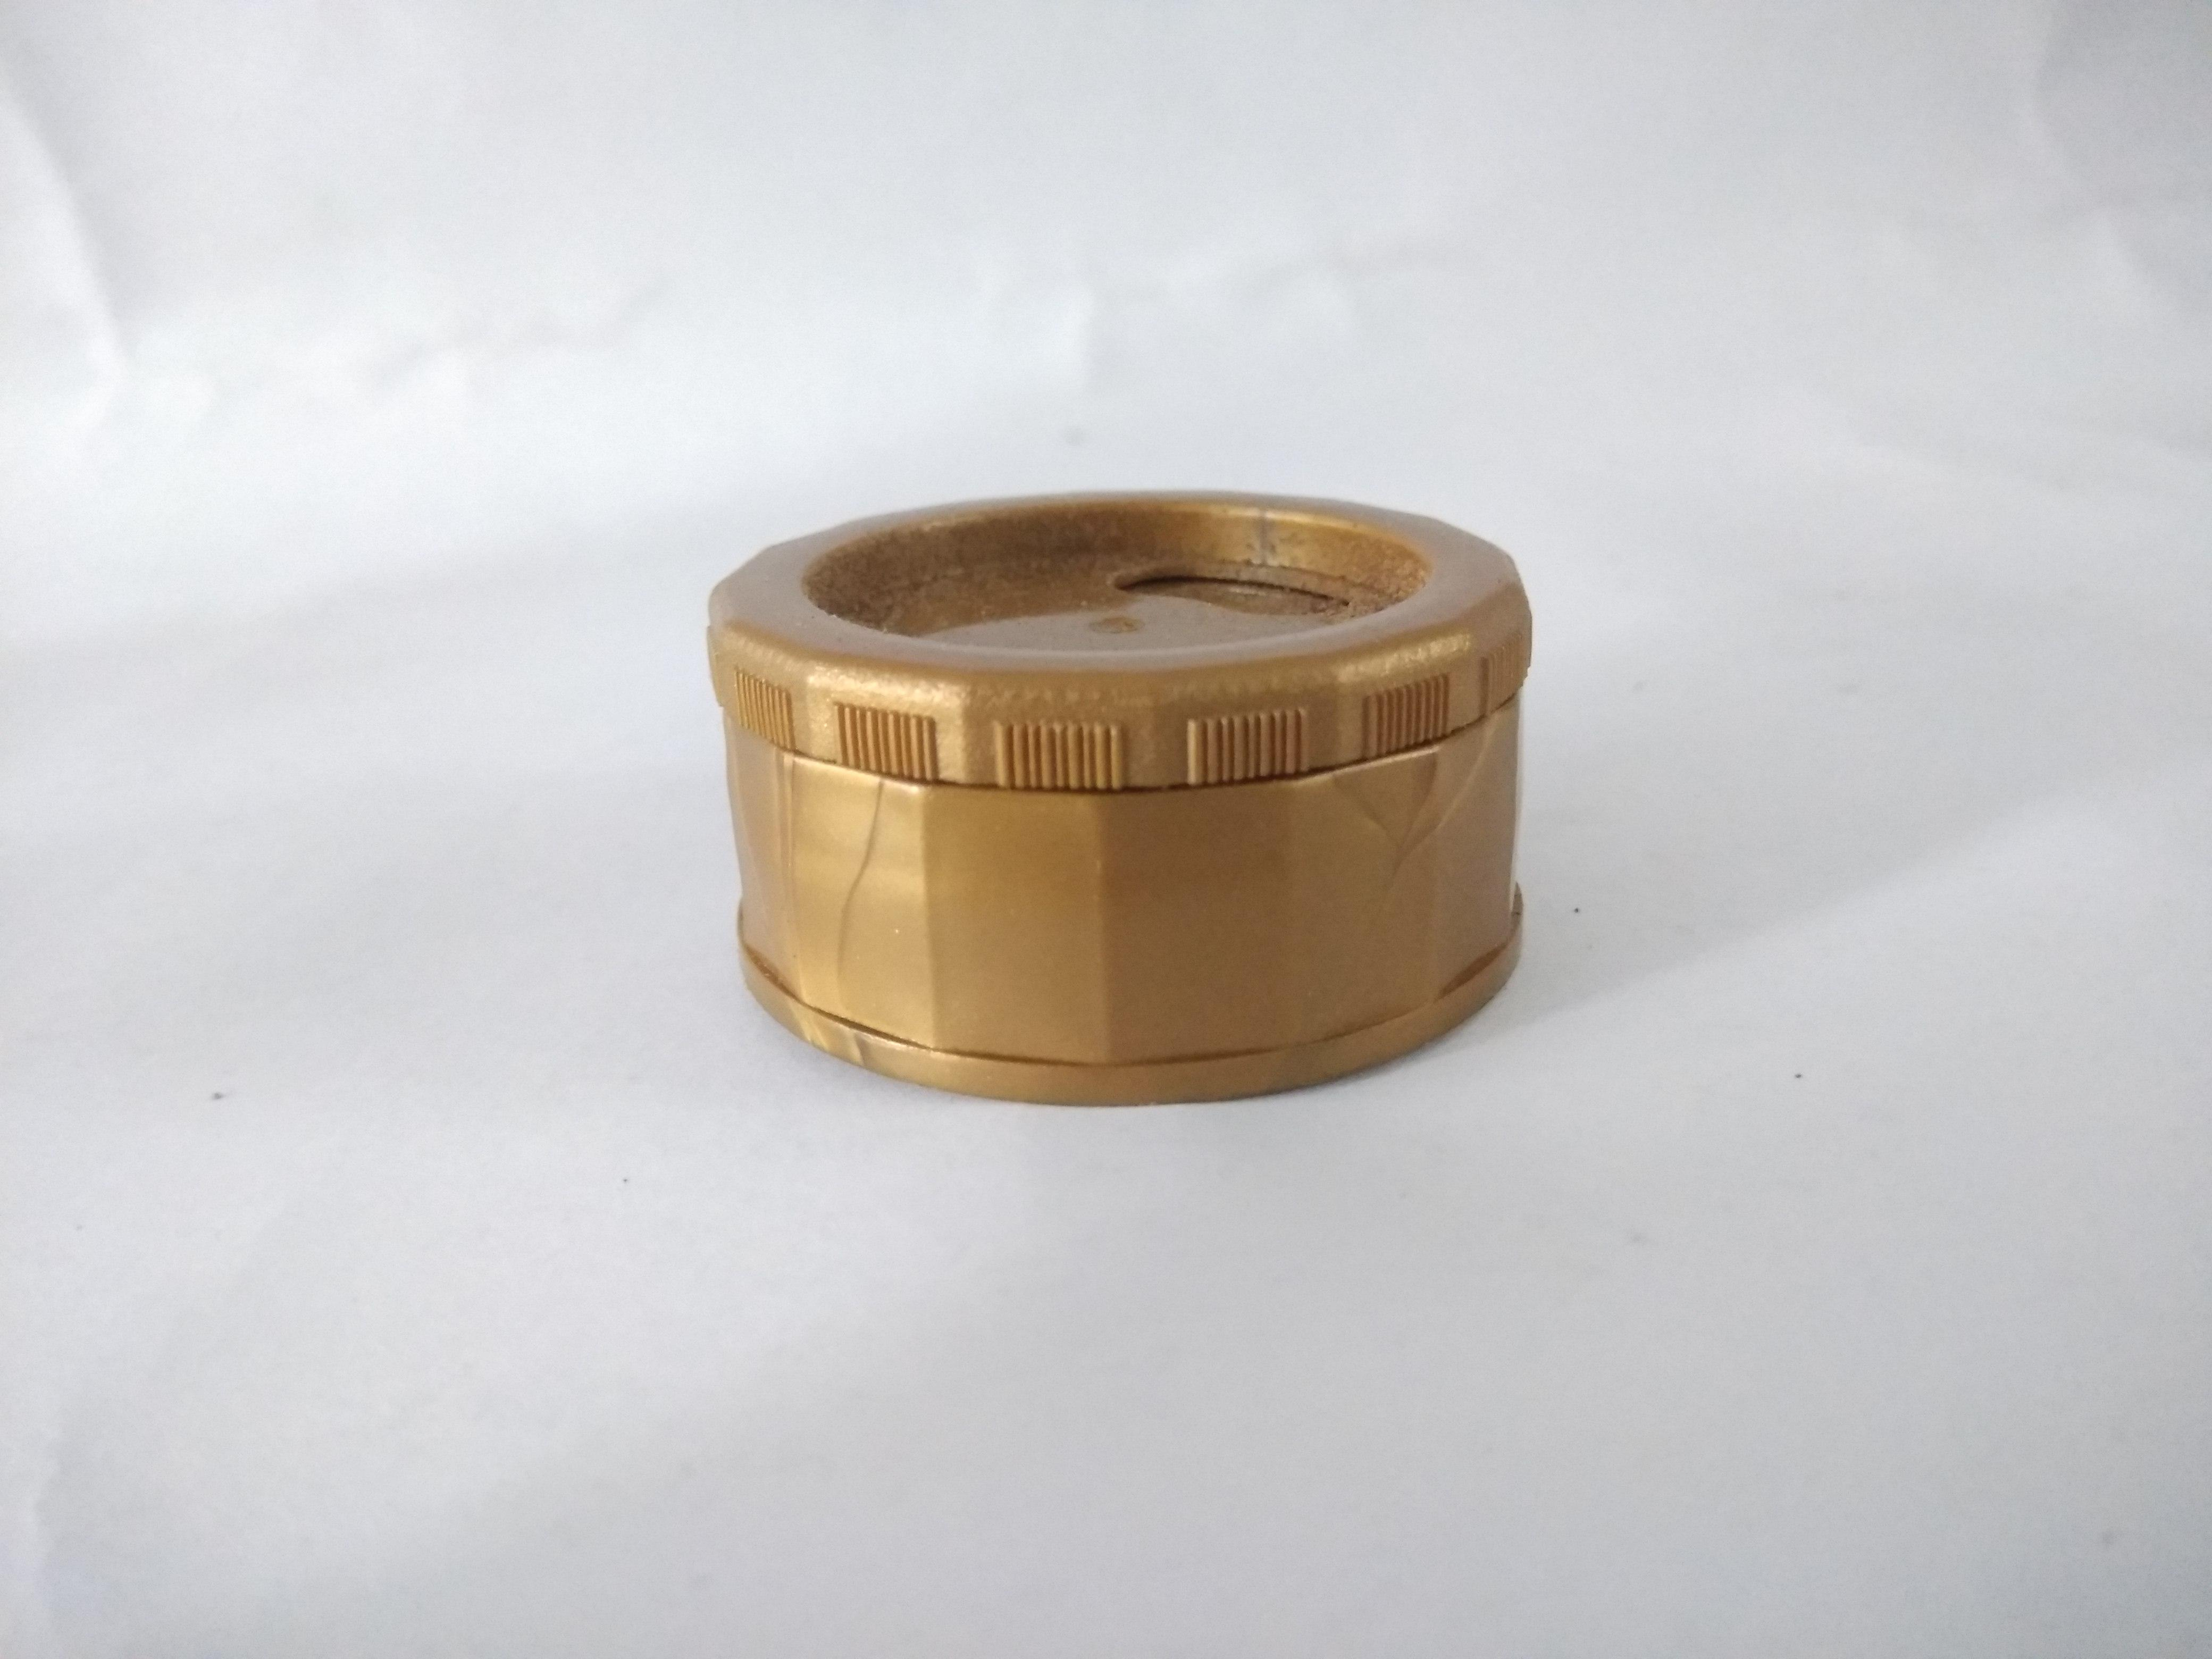PP: (702, 490, 1524, 1108)
